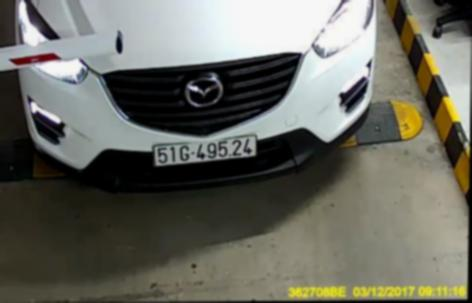License_Plate: (148, 135, 262, 167)
